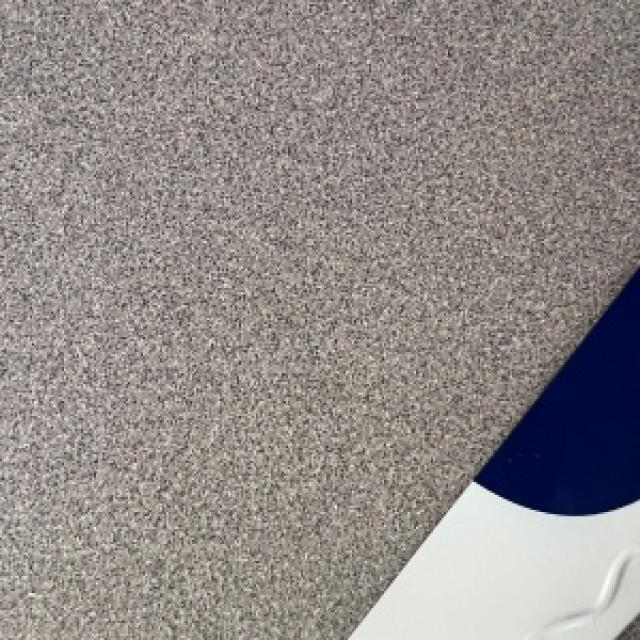healthy: (350, 267, 638, 638)
